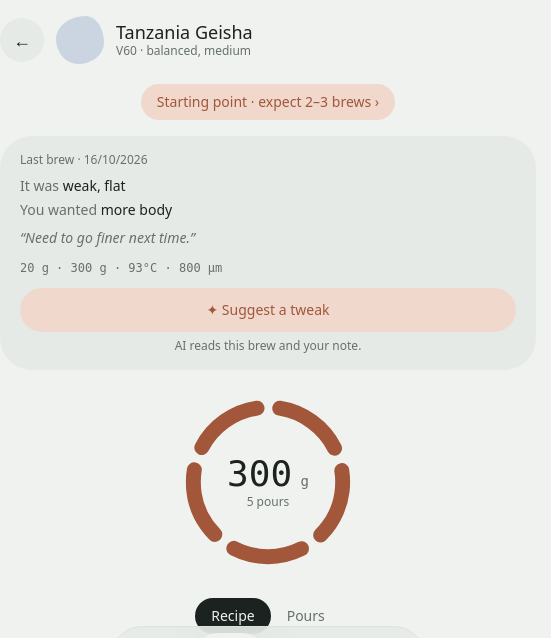
Test: Suggest a tweak › says when offline, and lets you try again
Click the button "✦ Suggest a tweak". click: [268, 310]
box: [20, 288, 516, 332]
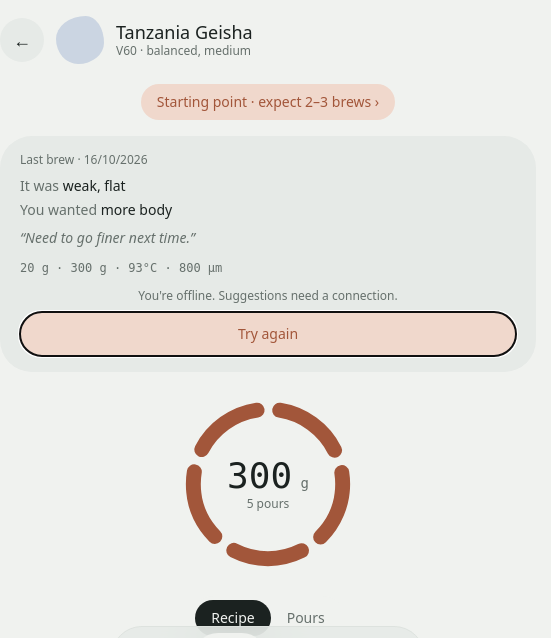
Result: the text "You're offline. Suggestions need a connection." is shown at [138, 287, 398, 304]
Result: the button "Try again" is shown at [20, 312, 516, 356]
